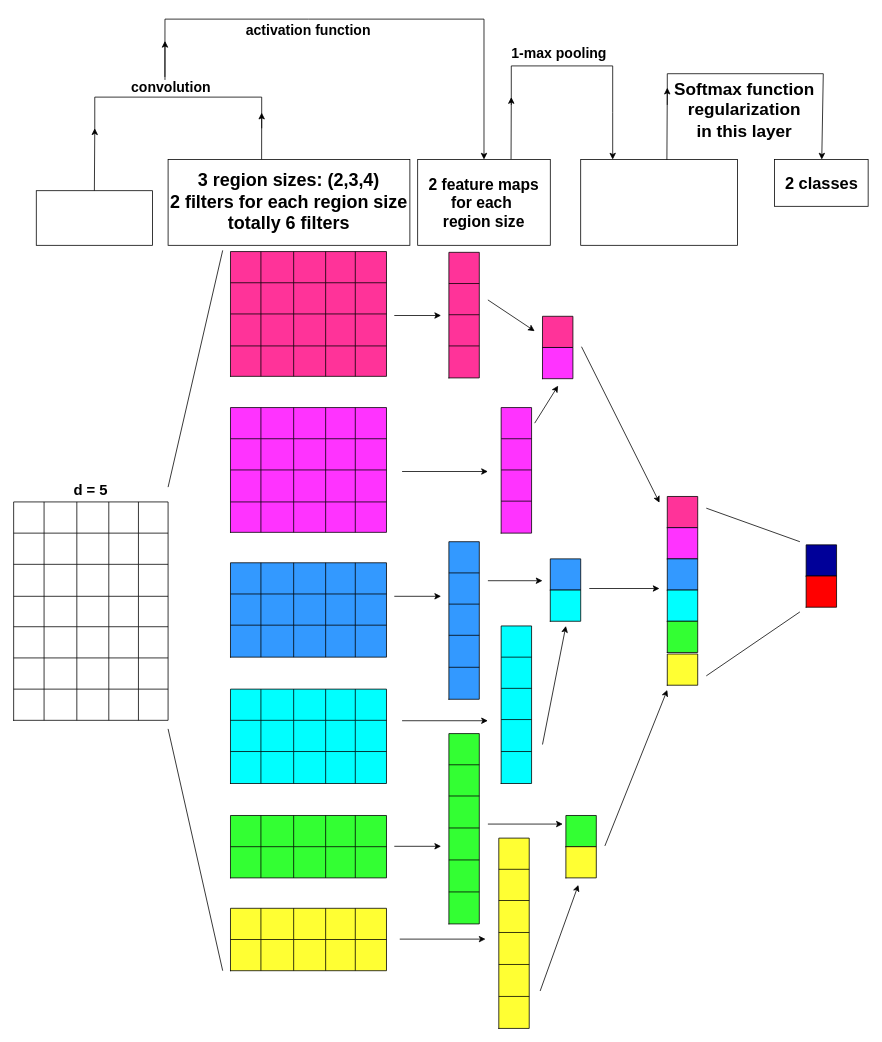
This 882x1042 diagram has some shape labels left out. Each missing label, with the centre of its shape:
6 univariate vectors concatenated together to form a single feature vector: point (658, 202)
Input Matrix 7×5: point (93, 217)
